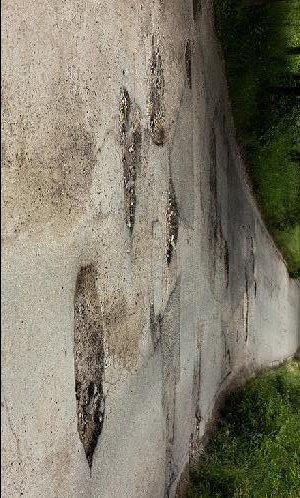pothole: (70, 259, 107, 468), (116, 85, 144, 236), (145, 49, 166, 147), (164, 176, 179, 265), (146, 301, 164, 350), (183, 36, 194, 87), (242, 273, 249, 342), (221, 238, 230, 289), (193, 0, 203, 22)
